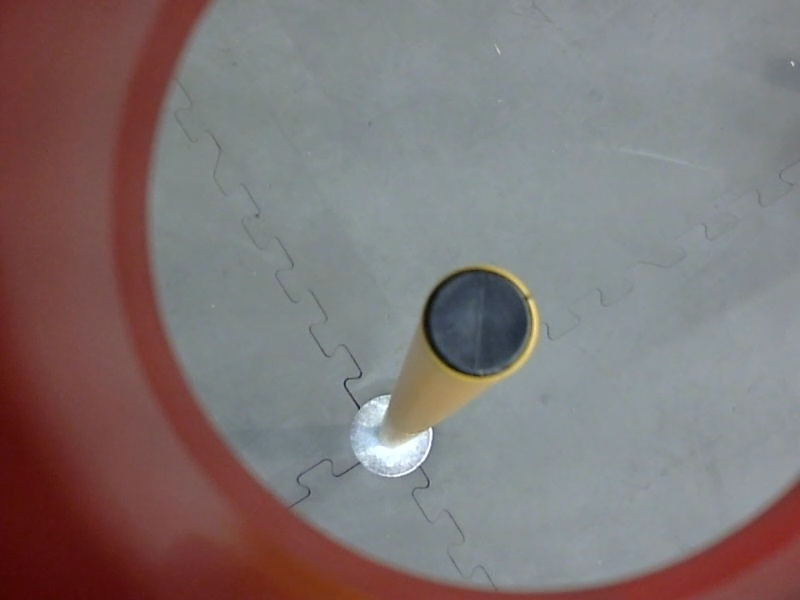tip: (419, 260, 546, 387)
